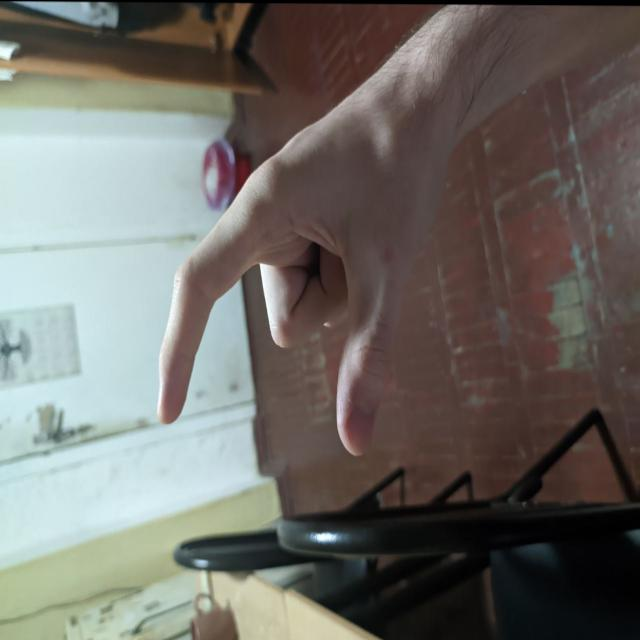uh: (136, 83, 422, 481)
